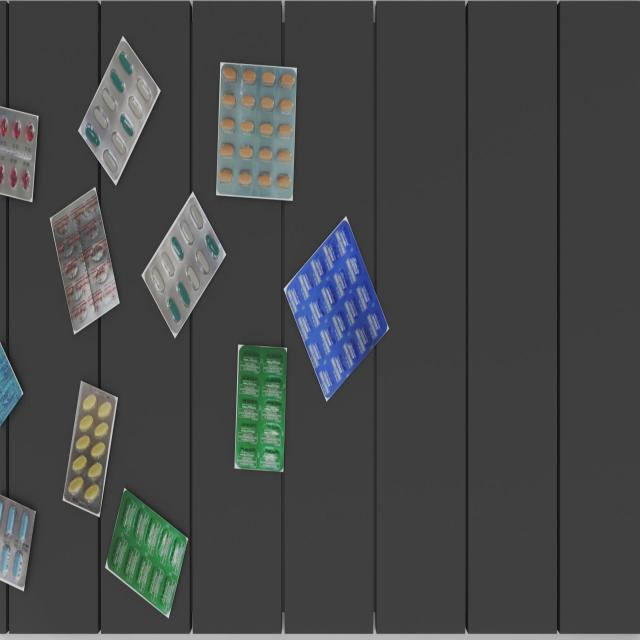blister: (285, 220, 385, 400), (217, 60, 297, 202), (80, 39, 157, 186), (143, 198, 225, 334), (51, 187, 122, 333), (108, 488, 186, 614), (63, 382, 118, 512), (235, 342, 289, 469), (0, 493, 38, 599), (0, 97, 36, 198)
